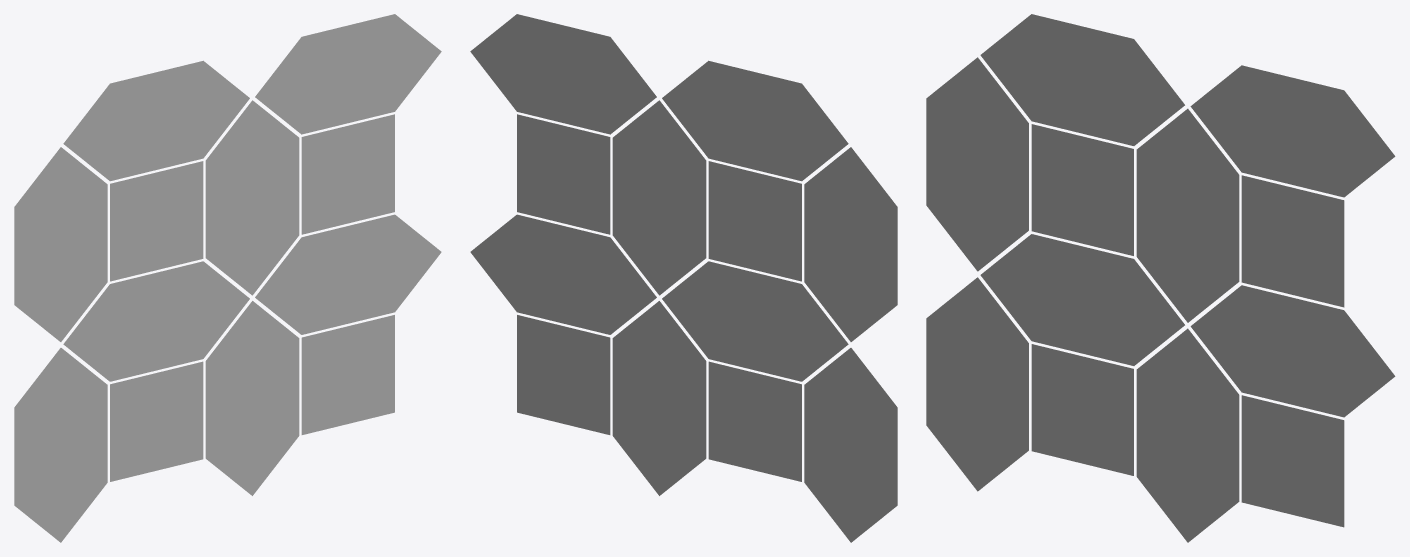
The model's file is calico.gltf.
The picture shows the model from 3 angles, left to right: view 1: azimuth 30°, elevation 25°; view 2: azimuth 150°, elevation 25°; view 3: azimuth 330°, elevation 25°; orthographic projection. The views are drawn at different scales.
Parts seen in each view (by area): view 1: calico; view 2: calico; view 3: calico.
Boxes of the visible parts, x1,y1,x2,y2 form: calico: [14, 14, 441, 542]; calico: [470, 14, 897, 542]; calico: [926, 14, 1395, 542].
Size of the model in its own units: 11.44 by 11.44 by 0.
Materials: 12 (12 with a texture image).
